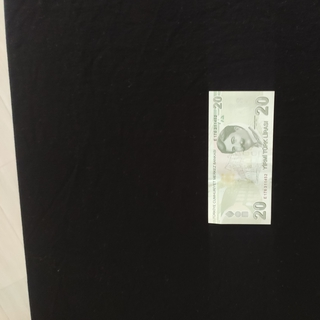20TLBack: (207, 90, 275, 225)
